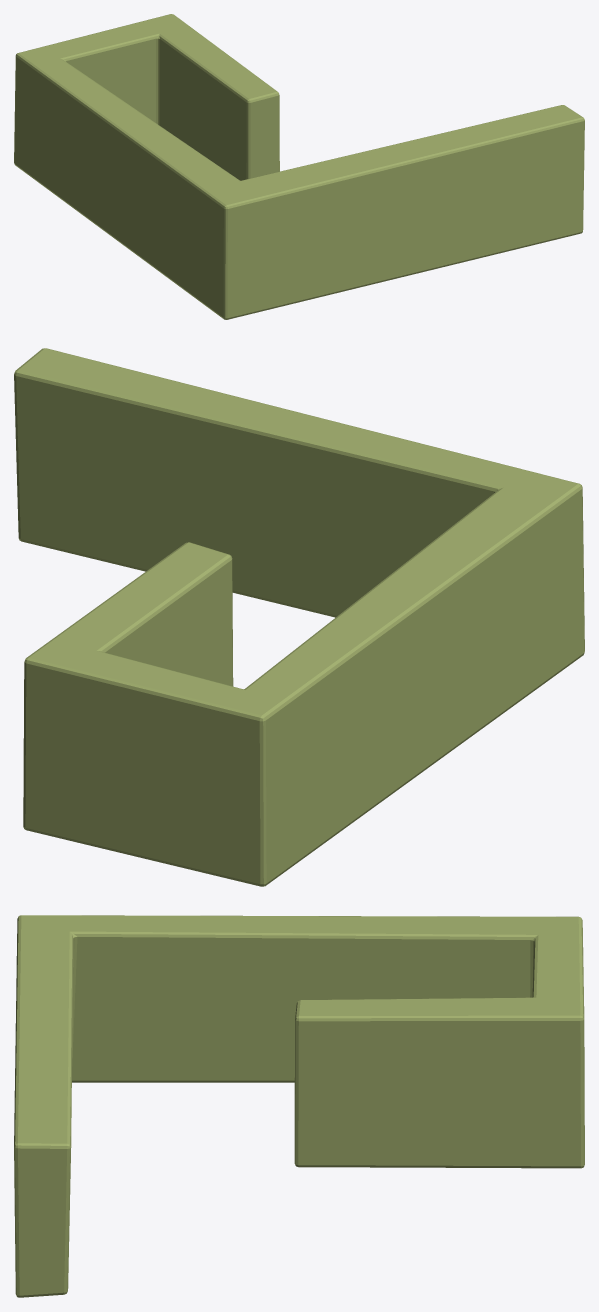
File: Wall piece 8 collider.fbx
3 renders of one model, top to bottom at view 1: azimuth 30°, elevation 25°; view 2: azimuth 150°, elevation 25°; view 3: azimuth 270°, elevation 25°, orthographic. The views are drawn at different scales.
Visible parts, largest first — view 1: wall piece 8 collider; view 2: wall piece 8 collider; view 3: wall piece 8 collider.
Part boxes in pixels (box(x1,y1,x2,y2)): wall piece 8 collider: box(14, 14, 584, 319); wall piece 8 collider: box(14, 348, 584, 886); wall piece 8 collider: box(14, 915, 584, 1297).
Size of the model in its own units: 1404 by 1442 by 436.
